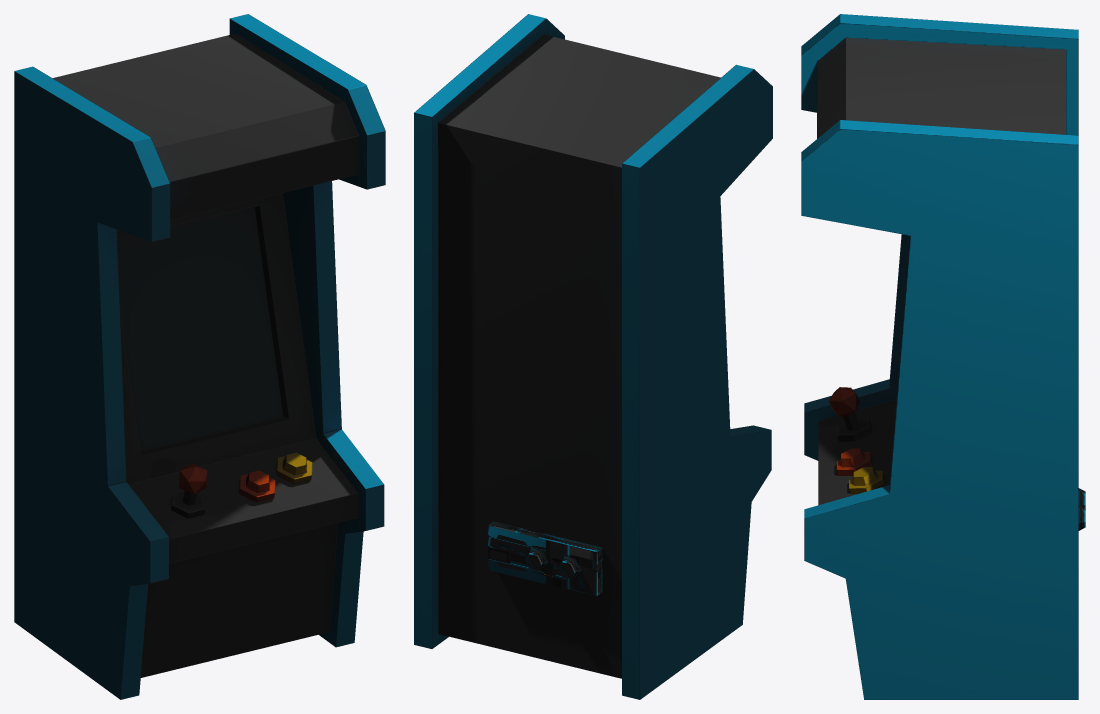
The model's file is casino2_h.glb.
3 views of the same model, side by side, from view 1: azimuth 30°, elevation 25°; view 2: azimuth 150°, elevation 25°; view 3: azimuth 270°, elevation 25° (orthographic). The views are drawn at different scales.
Visible parts, largest first — view 1: gamemachine_01; view 2: gamemachine_01; view 3: gamemachine_01.
Part boxes in pixels (x1,y1,x2,y2): gamemachine_01: (14,14,385,699); gamemachine_01: (414,14,772,699); gamemachine_01: (801,14,1085,699).
Bounding box in the file's own units: 0.8 × 1.85 × 0.8352.
5 materials, 5 textured.
